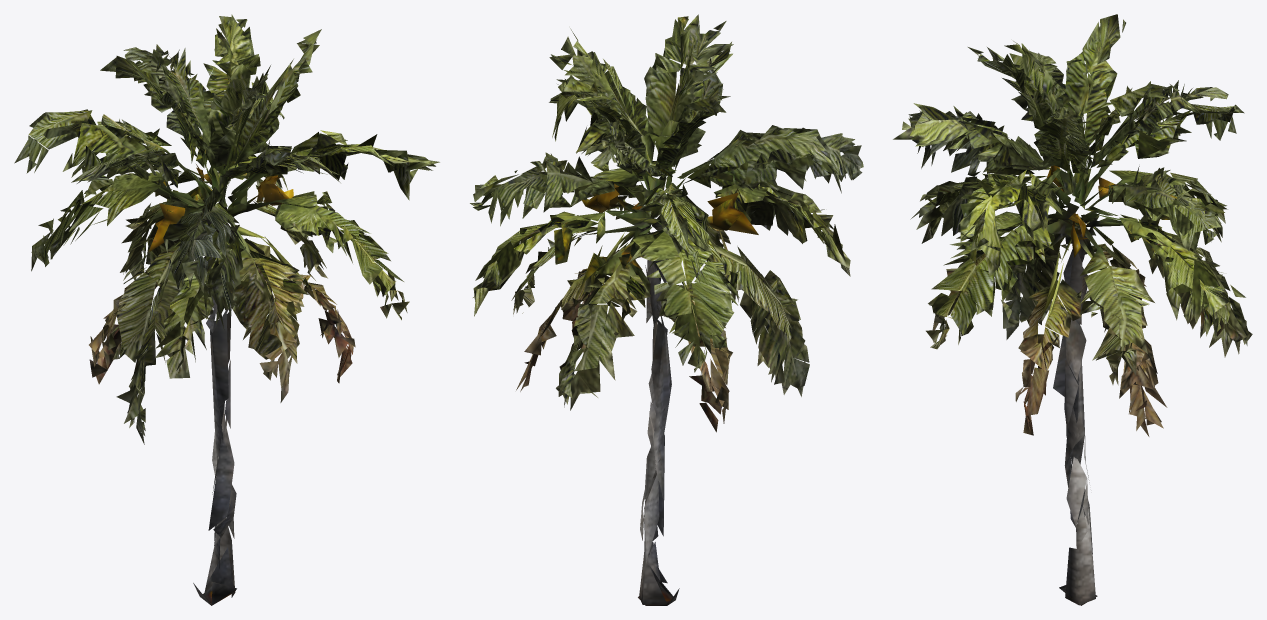
The model's file is palm_tree_LOD2.fbx.
3 views of the same model, side by side, from view 1: azimuth 30°, elevation 25°; view 2: azimuth 150°, elevation 25°; view 3: azimuth 270°, elevation 25° (orthographic).
Visible parts, largest first — view 1: palm_tree.001; view 2: palm_tree.001; view 3: palm_tree.001.
Part boxes in pixels (<box>): palm_tree.001: <box>14,14,439,605</box>; palm_tree.001: <box>470,14,863,605</box>; palm_tree.001: <box>893,14,1252,605</box>.
Bounding box in the file's own units: 6.03 × 9.96 × 5.81.
Materials: 1 (1 with a texture image).
